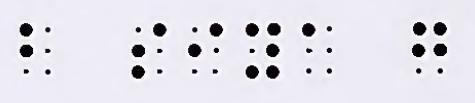a: (302, 22, 334, 74)
bakit: (19, 23, 51, 77)
ganoon: (413, 20, 446, 75)
i: (189, 21, 223, 74)
s: (130, 22, 167, 79)
y: (246, 22, 280, 79)
